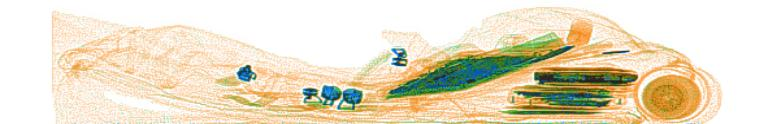seal: (641, 76, 702, 122)
